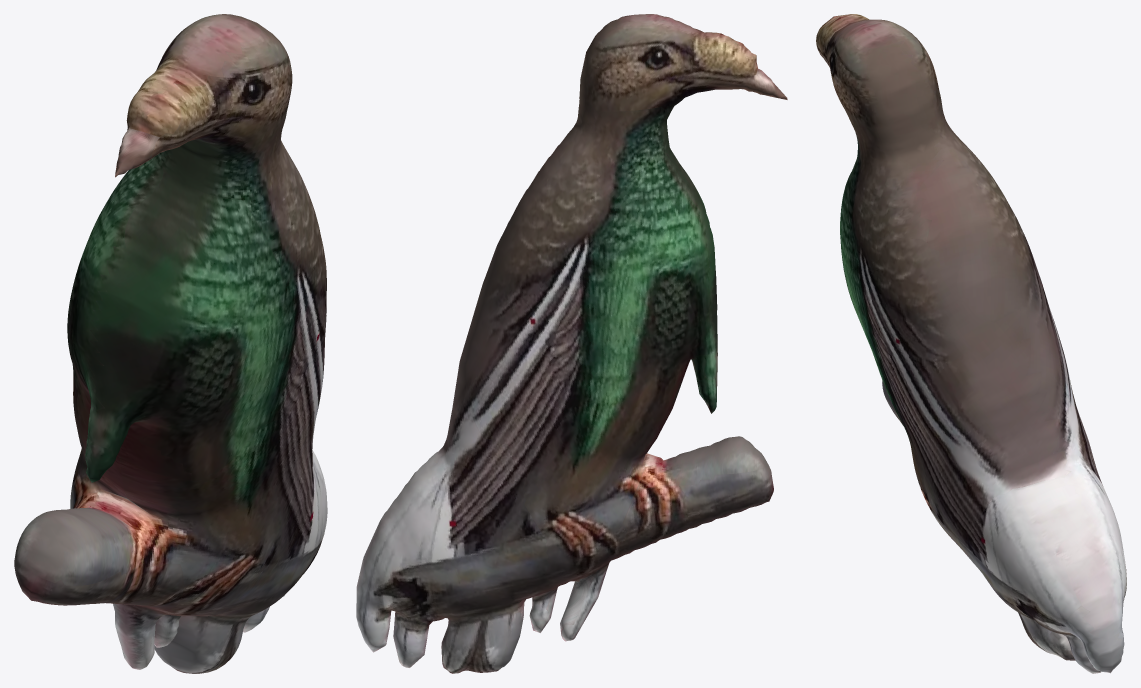
Rendered from burung-bidadari.glb.
3 renders of one model, left to right at view 1: azimuth 30°, elevation 25°; view 2: azimuth 150°, elevation 25°; view 3: azimuth 270°, elevation 25°, orthographic. The views are drawn at different scales.
Parts seen in each view (by area): view 1: Object_5; view 2: Object_5; view 3: Object_5.
Boxes of the visible parts, x1,y1,x2,y2 form: Object_5: [14, 14, 327, 673]; Object_5: [356, 14, 787, 673]; Object_5: [816, 14, 1126, 673].
Bounding box in the file's own units: 0.8989 × 1.62 × 0.7749.
1 material, 1 textured.
